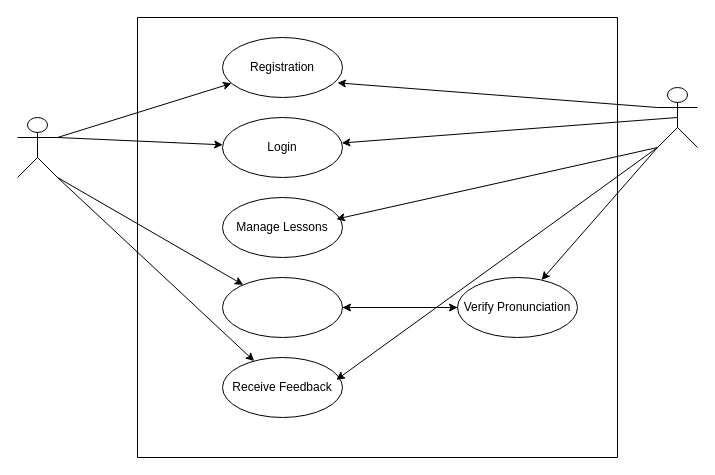
The diagram is 715 pixels wide and 475 high, and some of its shapes have lost their labels. The shapes that lost their labels are listed below. From the top down, each one's centre as x and y in pixels, then its label:
At pixel 677 117: "Admin".
At pixel 37 147: "User".
At pixel 282 307: "Record Voice".
